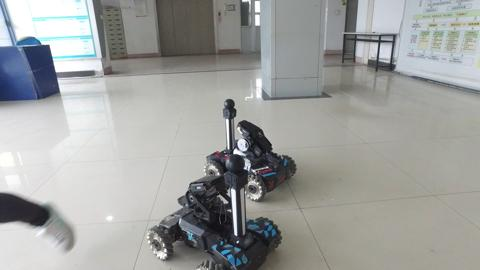chariot: (145, 150, 289, 270), (200, 95, 300, 208)
